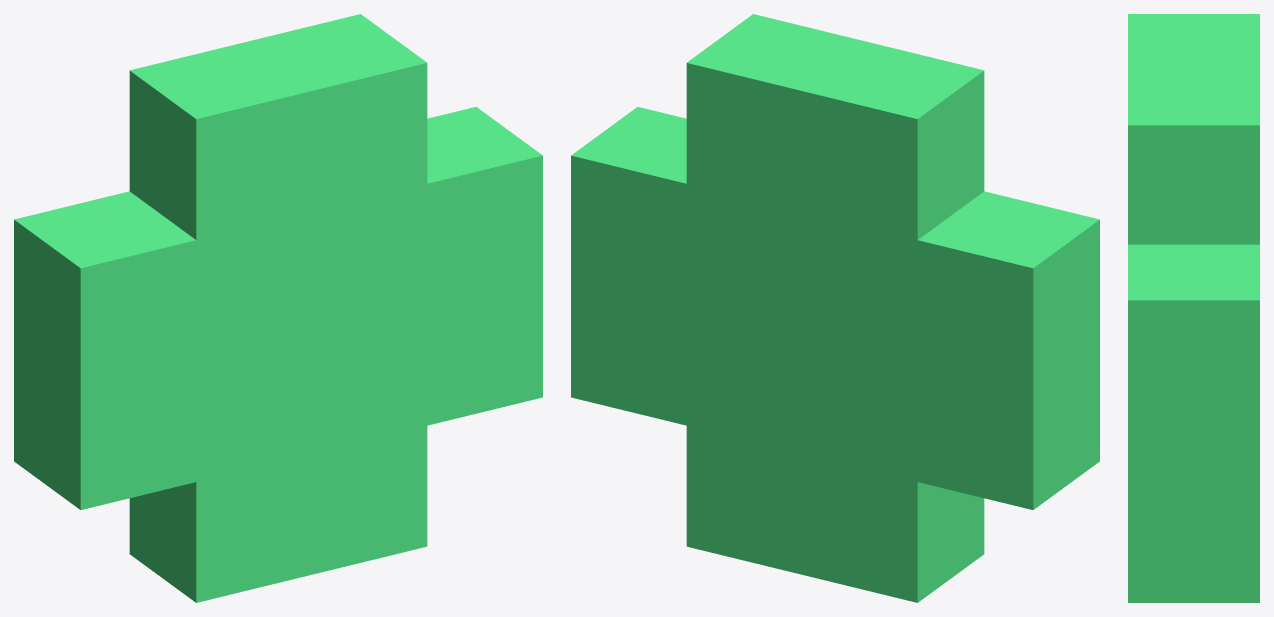
The picture shows the model from 3 angles, left to right: view 1: azimuth 30°, elevation 25°; view 2: azimuth 150°, elevation 25°; view 3: azimuth 270°, elevation 25°; orthographic projection.
Visible parts, largest first — view 1: 63.2; view 2: 63.2; view 3: 63.2.
Part boxes in pixels (x1,y1,x2,y2): 63.2: [14, 14, 542, 602]; 63.2: [571, 14, 1099, 602]; 63.2: [1128, 14, 1259, 602].
Bounding box in the file's own units: 40 × 40 × 10.
Materials: 1 (1 with a texture image).
